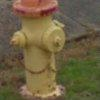Hydrant: (6, 1, 71, 98)
